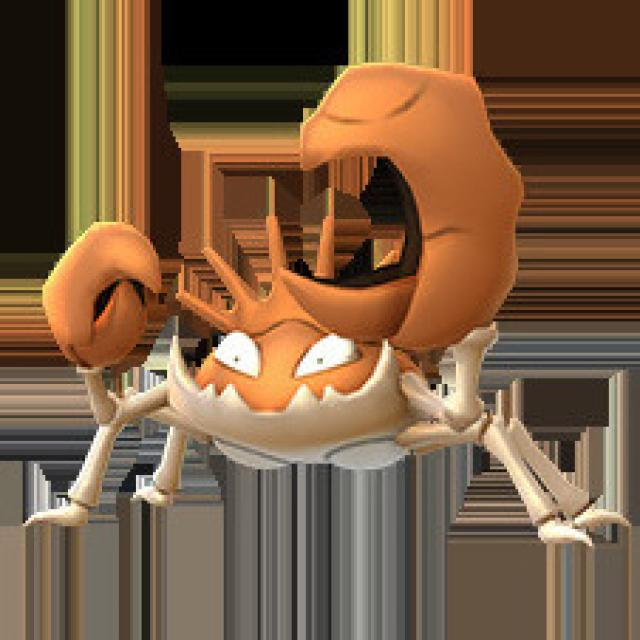Kingler: (45, 193, 558, 518)
